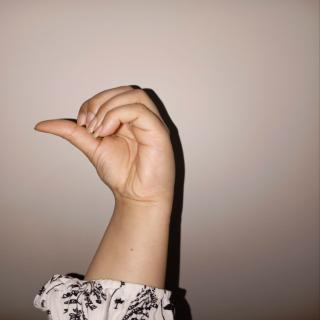WAW: (26, 77, 192, 217)
